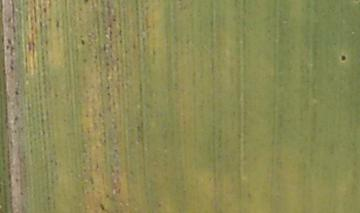tarspot: (340, 54, 347, 62), (81, 39, 86, 46)
